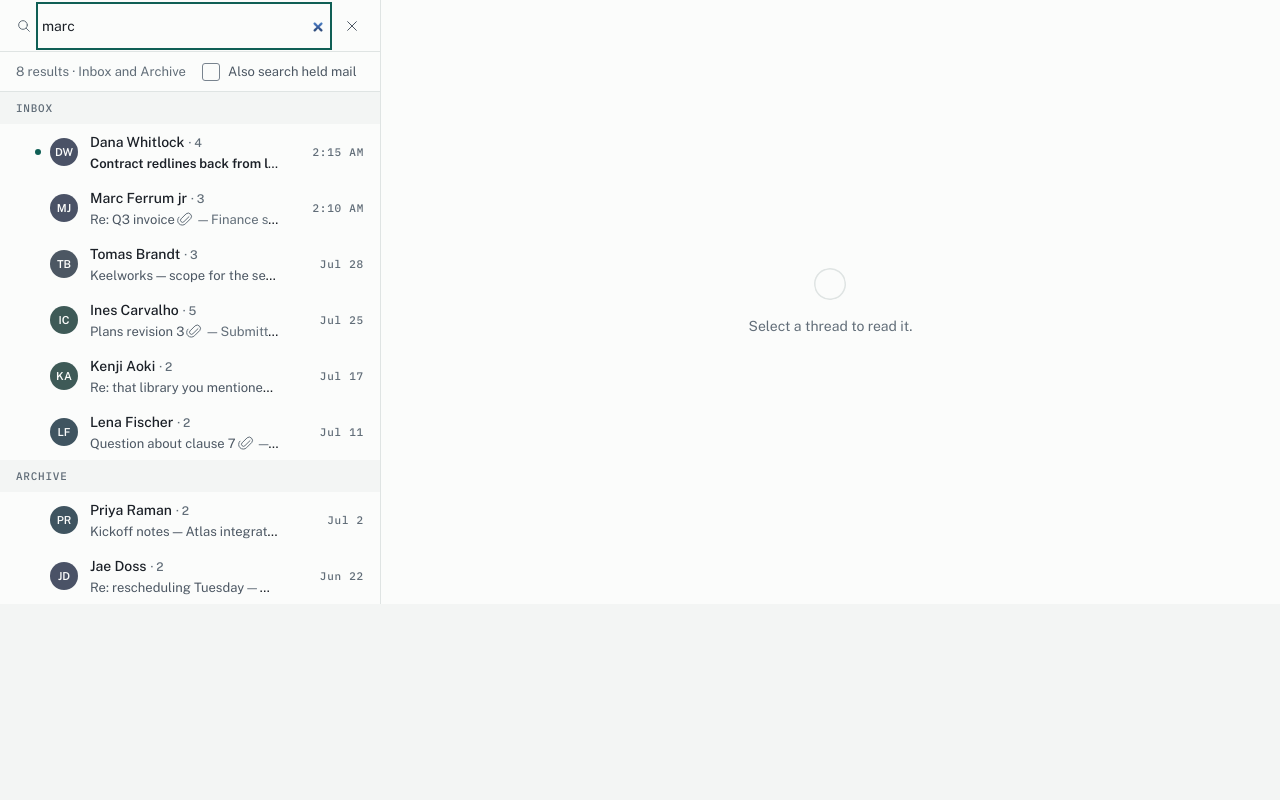
Test case: search result keyboard navigation (§8.1) › keeps an archived result open when the query is cleared
The image size is (1280, 800).
Click the button with aria-label "Priya Raman, Kickoff notes — Atlas integration, 28 days ago".
click(131, 510)  # box [26,492,380,548]
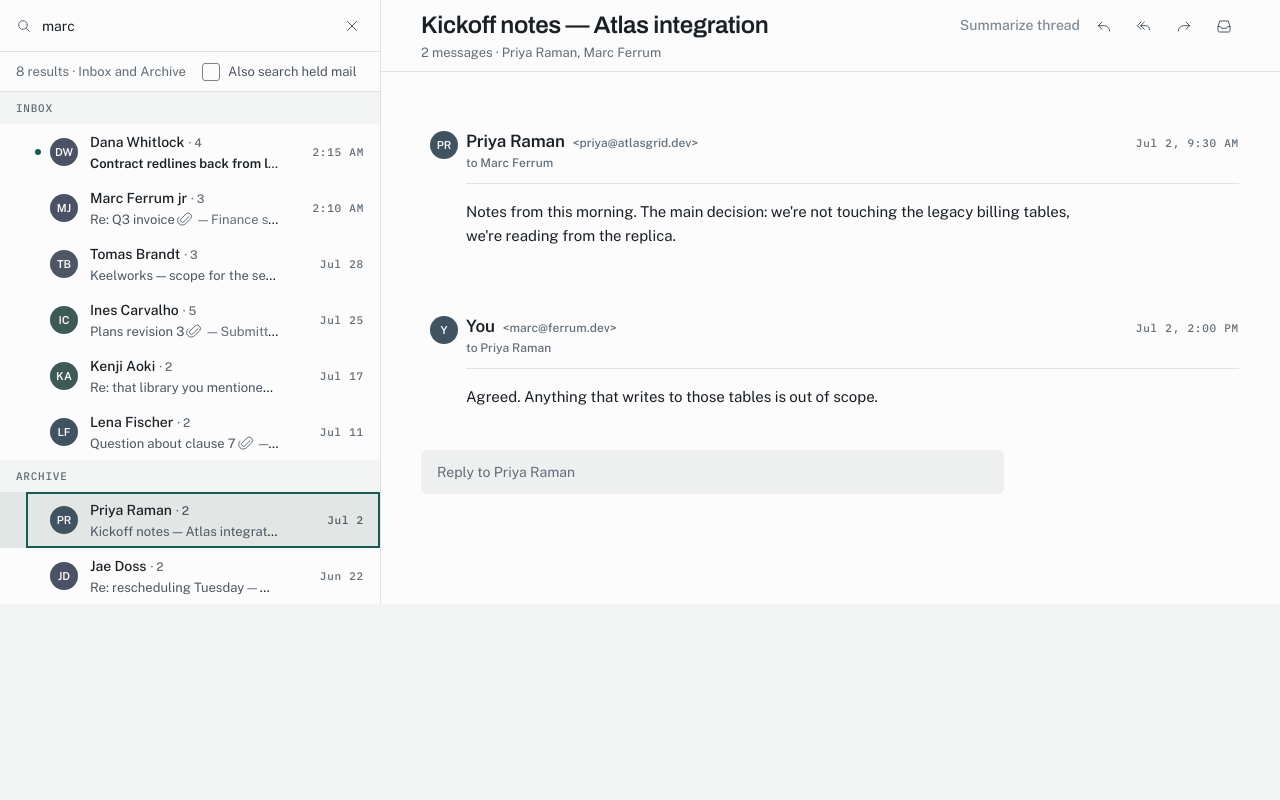
Expected: the heading "Kickoff notes — Atlas integration" is shown, [421,10,768,40]
Type keys "r"
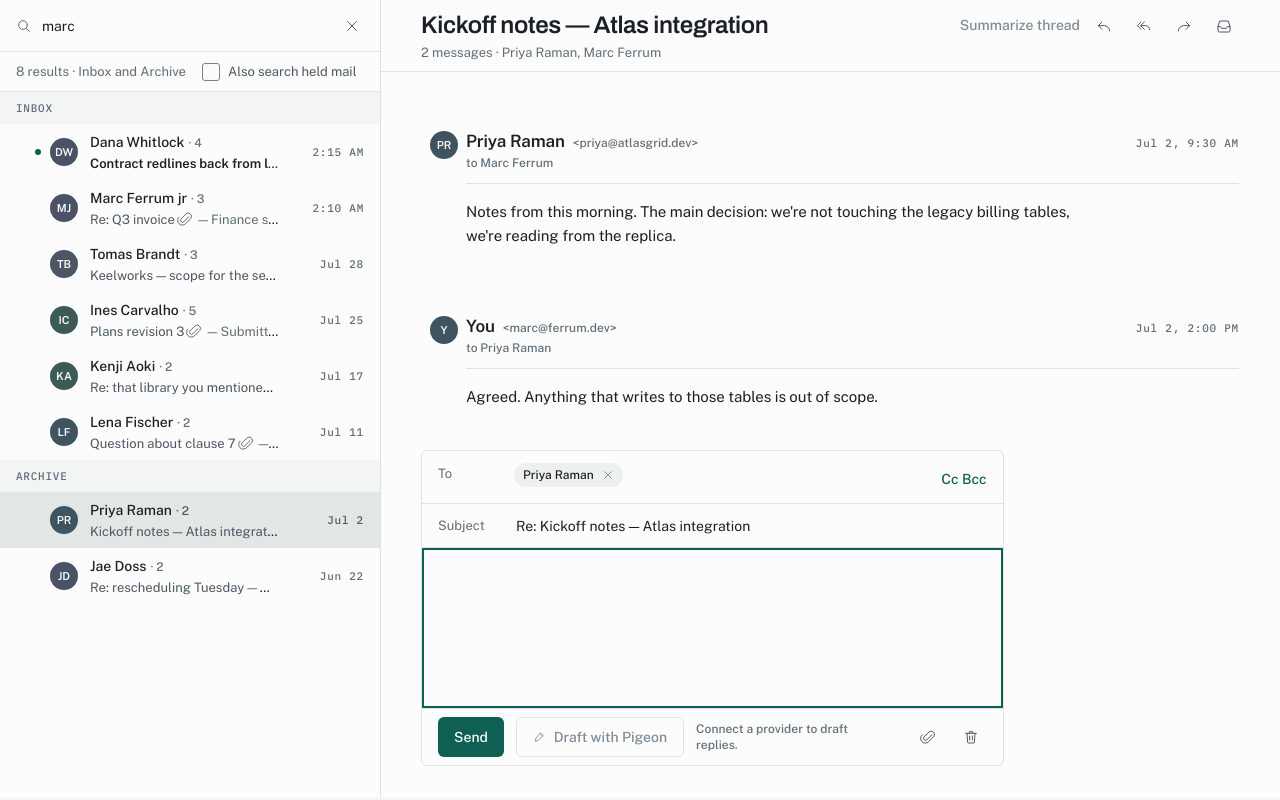
Type "Words I would hate to lose." into the text box named "Message body".
click(712, 628); type("Words I would hate to lose.")  # box [422,548,1003,708]
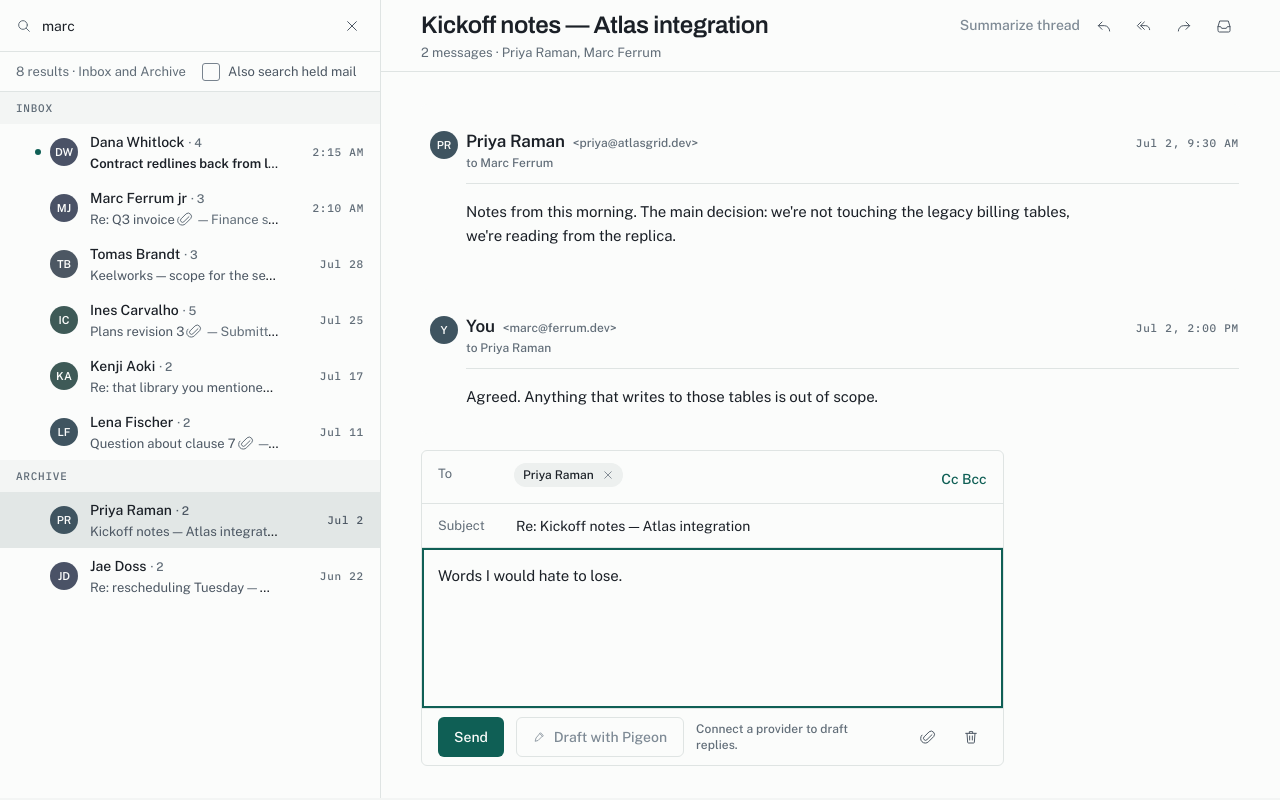
Clear the search field named "Search mail" at (184, 26), box [40,6,328,46]
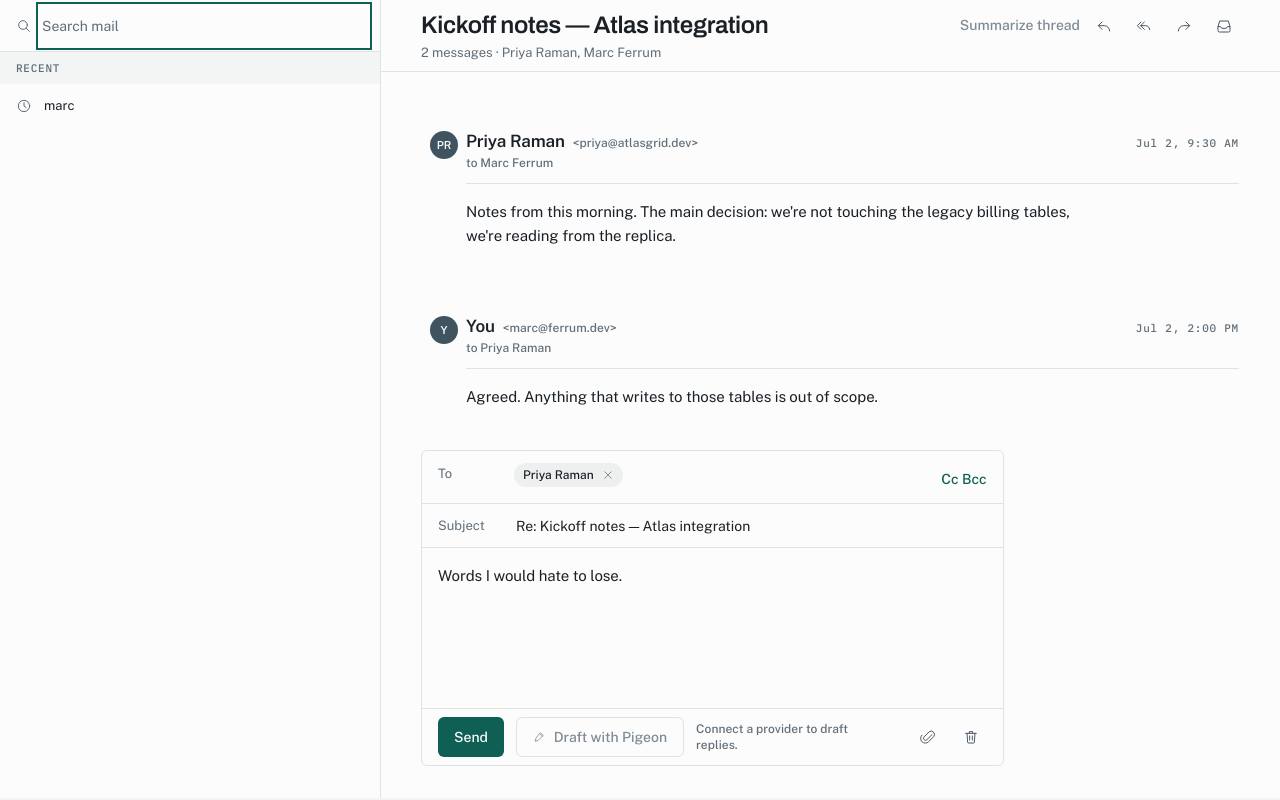
Expected: the heading "Kickoff notes — Atlas integration" is shown, [421,10,768,40]
Expected: no list items are shown
